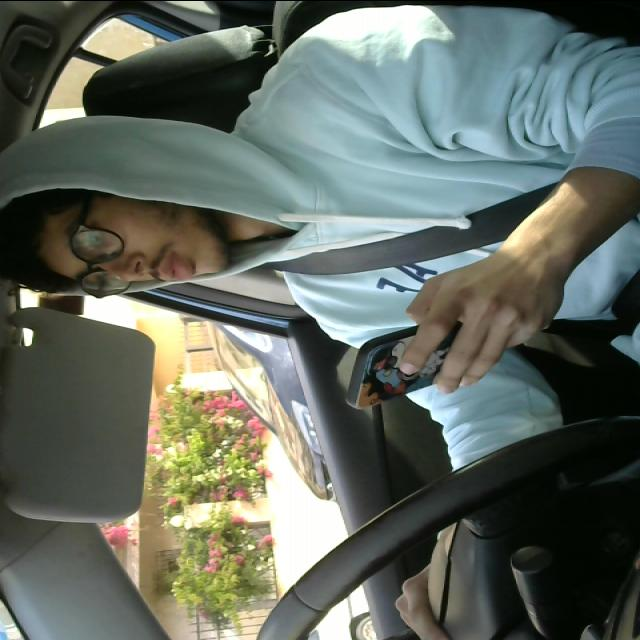mobile use: (339, 328, 501, 414)
